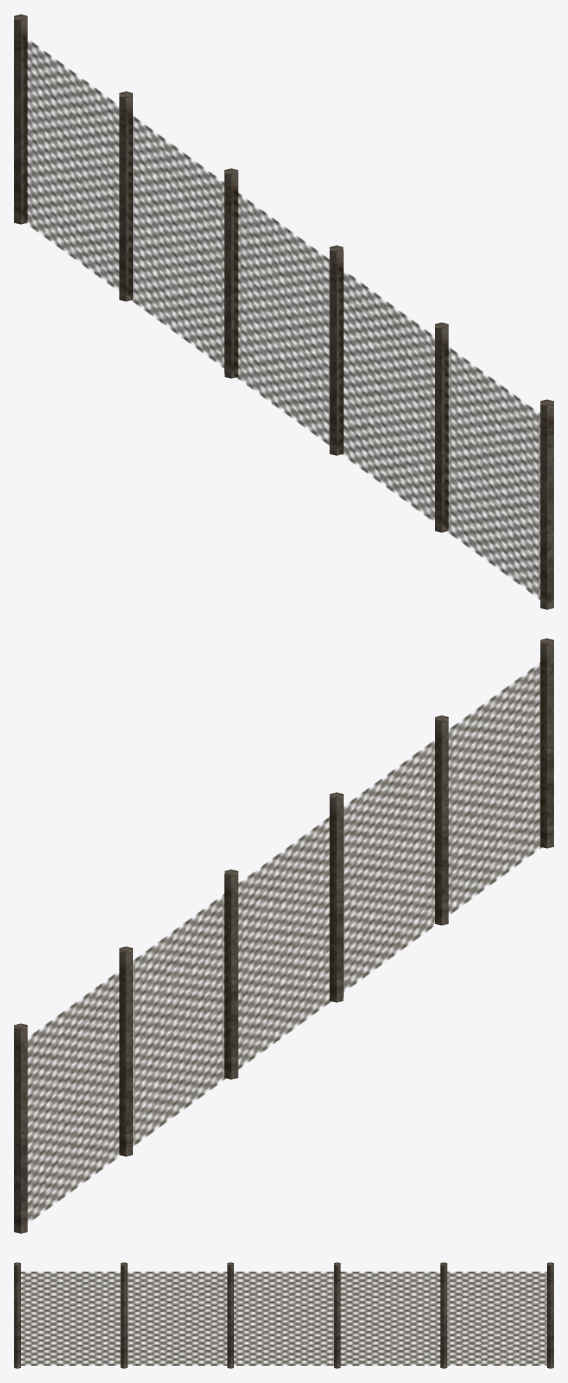
File: luoi.glb
3 views of the same model, one above another, from view 1: azimuth 30°, elevation 25°; view 2: azimuth 150°, elevation 25°; view 3: azimuth 270°, elevation 25° (orthographic). The views are drawn at different scales.
Parts seen in each view (by area): view 1: RedesPesca; view 2: RedesPesca; view 3: RedesPesca.
Boxes of the visible parts, <box> form: RedesPesca: <box>14,14,553,609</box>; RedesPesca: <box>14,638,553,1233</box>; RedesPesca: <box>14,1262,553,1368</box>.
Bounding box in the file's own units: 0.0149 × 0.2107 × 1.
Materials: 2 (2 with a texture image).
